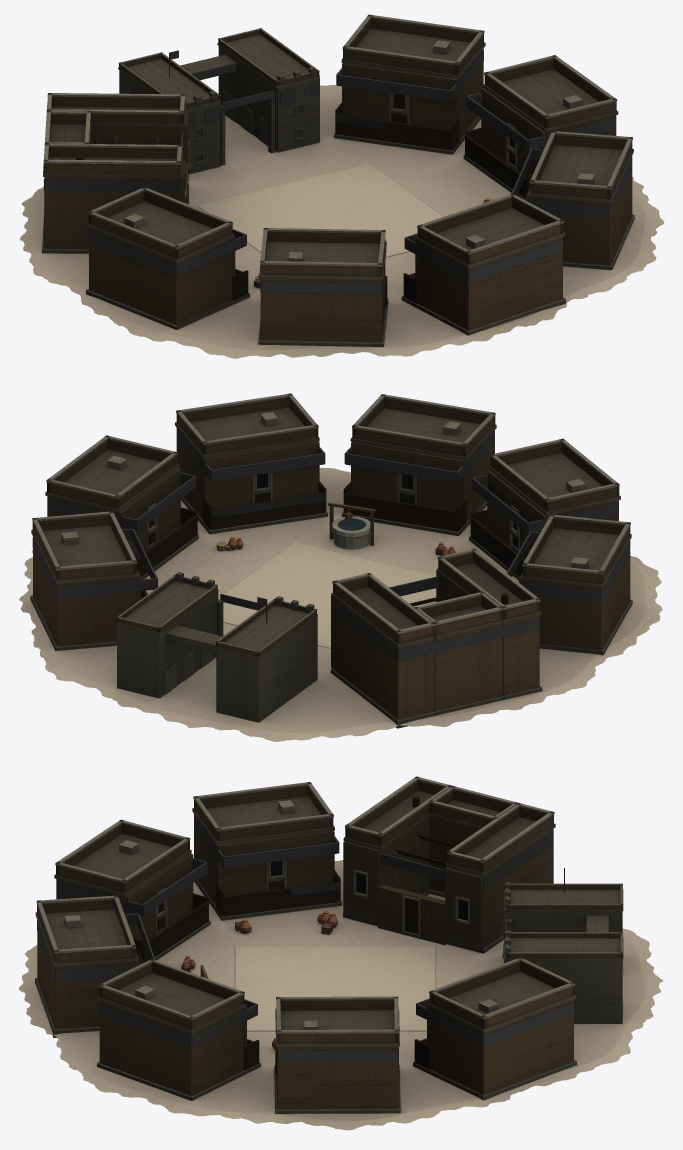
The model's file is bronze-town-small-a-israelite.glb.
The picture shows the model from 3 angles, top to bottom: view 1: azimuth 30°, elevation 25°; view 2: azimuth 150°, elevation 25°; view 3: azimuth 270°, elevation 25°; orthographic projection.
Parts seen in each view (by area): view 1: LOD0; view 2: LOD0; view 3: LOD0.
Boxes of the visible parts, bbox=[...] form: LOD0: bbox=[20, 14, 664, 358]; LOD0: bbox=[19, 393, 662, 741]; LOD0: bbox=[19, 776, 663, 1130].
Size of what is drawn, in the model's own units: 3.98 by 0.6739 by 3.94.
3 materials, 3 textured.
